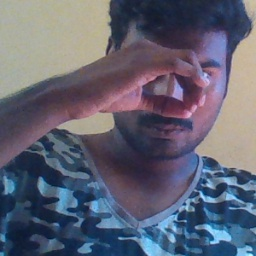O: (64, 37, 215, 128)
